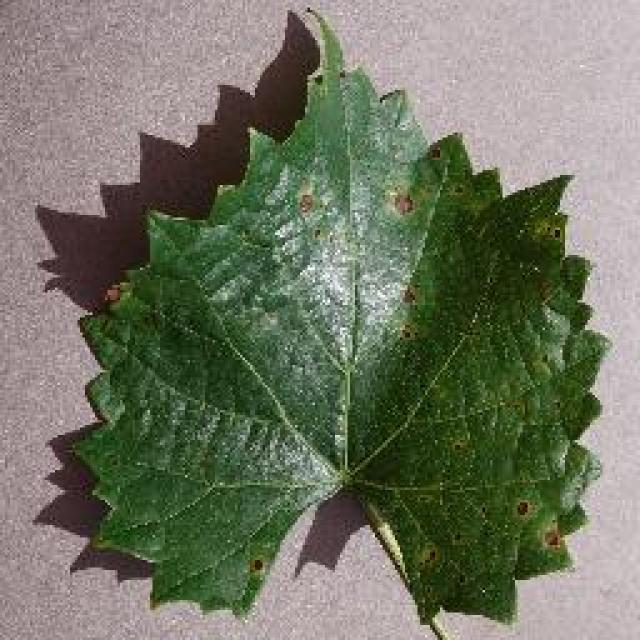Grape___Black_rot: (62, 4, 622, 630)
